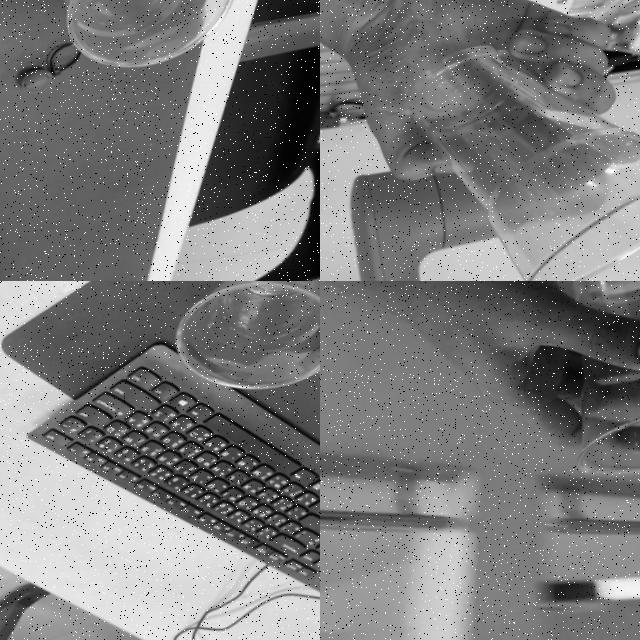glass: (382, 2, 640, 281), (536, 281, 640, 490), (154, 281, 320, 407), (36, 0, 256, 84)
